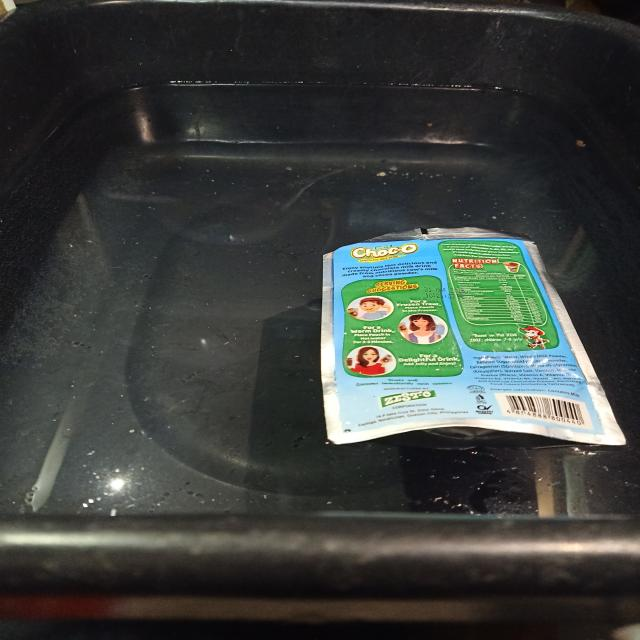Plastic Pouch: (321, 228, 625, 445)
